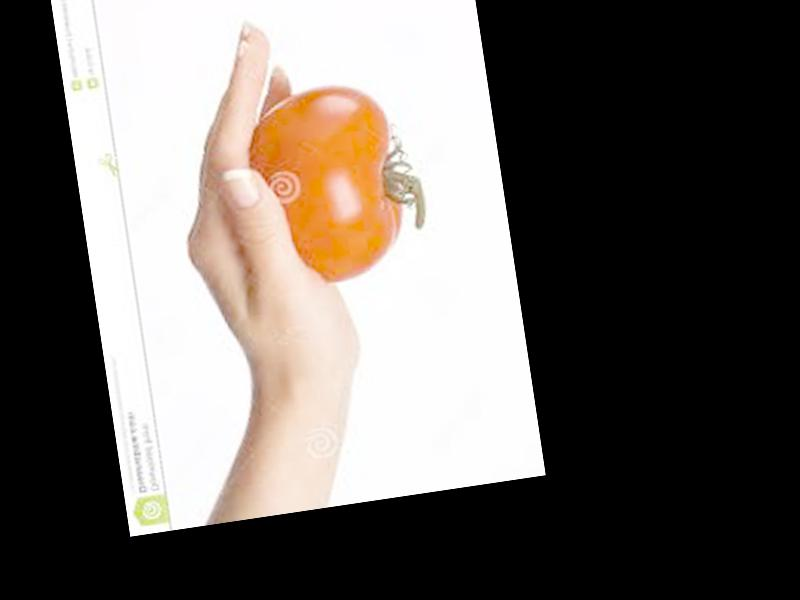Tomato: (241, 78, 411, 291)
